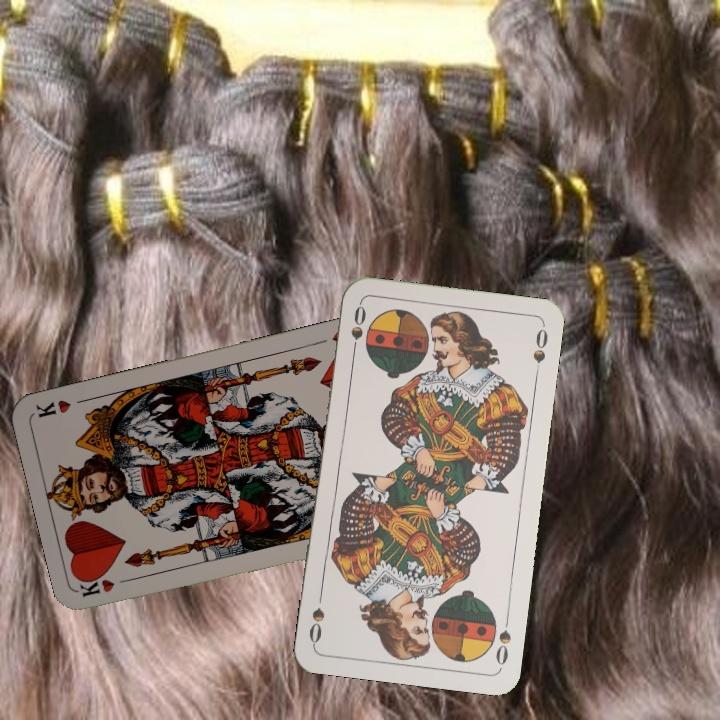HK: (77, 573, 137, 600)
SO: (347, 300, 369, 360), (492, 611, 514, 668)
